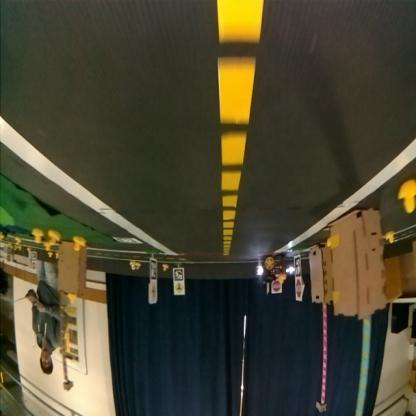Duckie: (399, 181, 415, 215), (48, 232, 61, 246), (74, 238, 86, 252), (34, 230, 44, 245), (387, 233, 394, 245), (279, 276, 287, 284), (130, 262, 136, 270), (136, 262, 142, 270), (163, 264, 169, 272)
Duckiebot: (258, 258, 294, 276)
Intersection sign: (151, 284, 157, 302), (176, 283, 184, 295)
QR code: (114, 238, 143, 245), (174, 270, 184, 282), (152, 262, 158, 281), (296, 258, 301, 278)
Stop sign: (273, 282, 282, 294), (297, 280, 302, 299)
